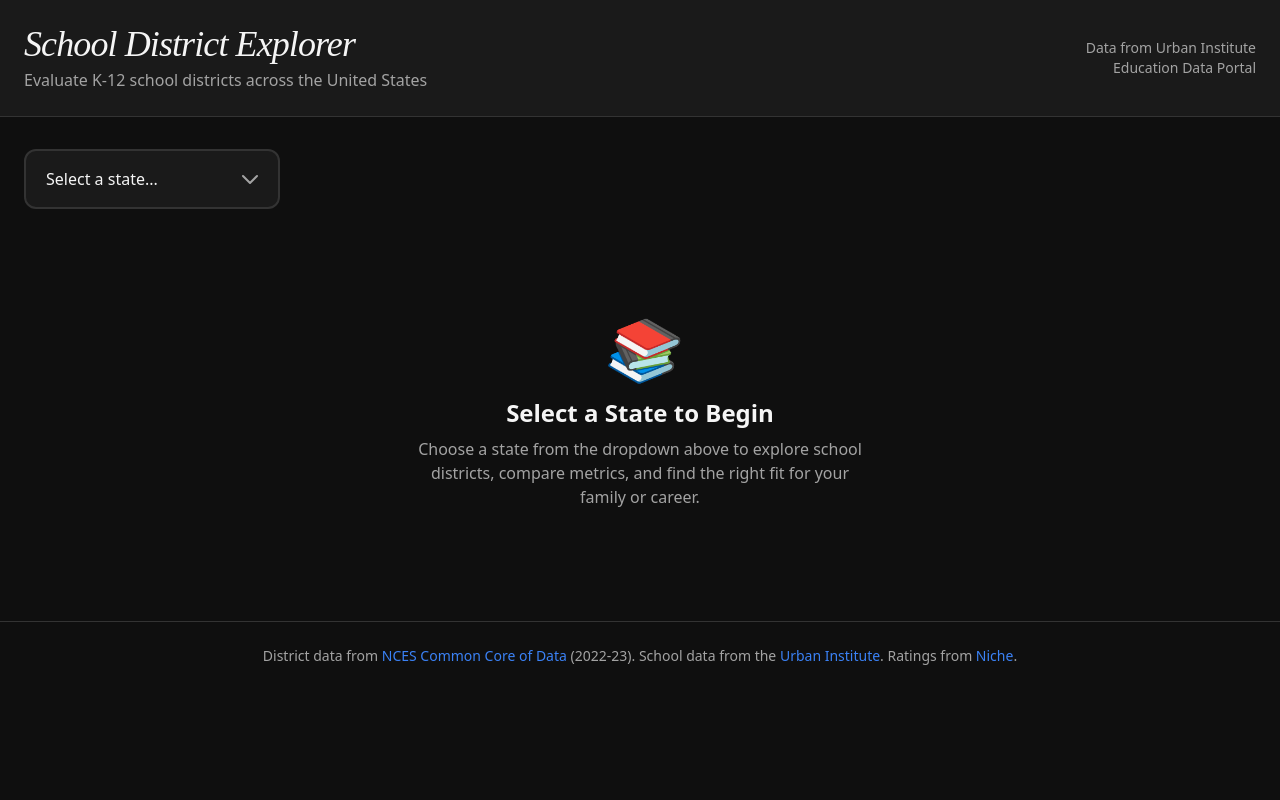
Scenario: App › should display districts when loaded
The width and height of the screenshot is (1280, 800).
Select "California" in the dropdown: point(152, 179) [24,149,280,209]
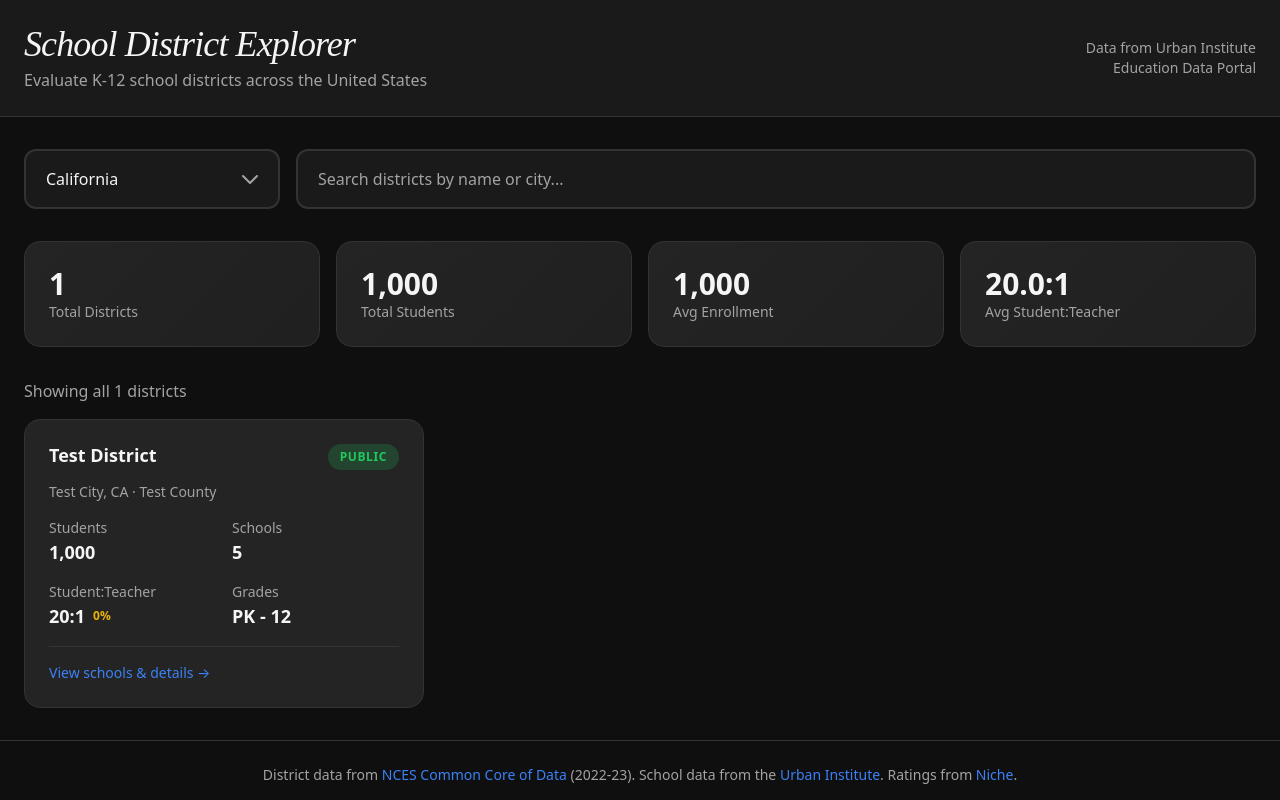
Expected: the heading "Test District" is shown, [49,444,164,466]
